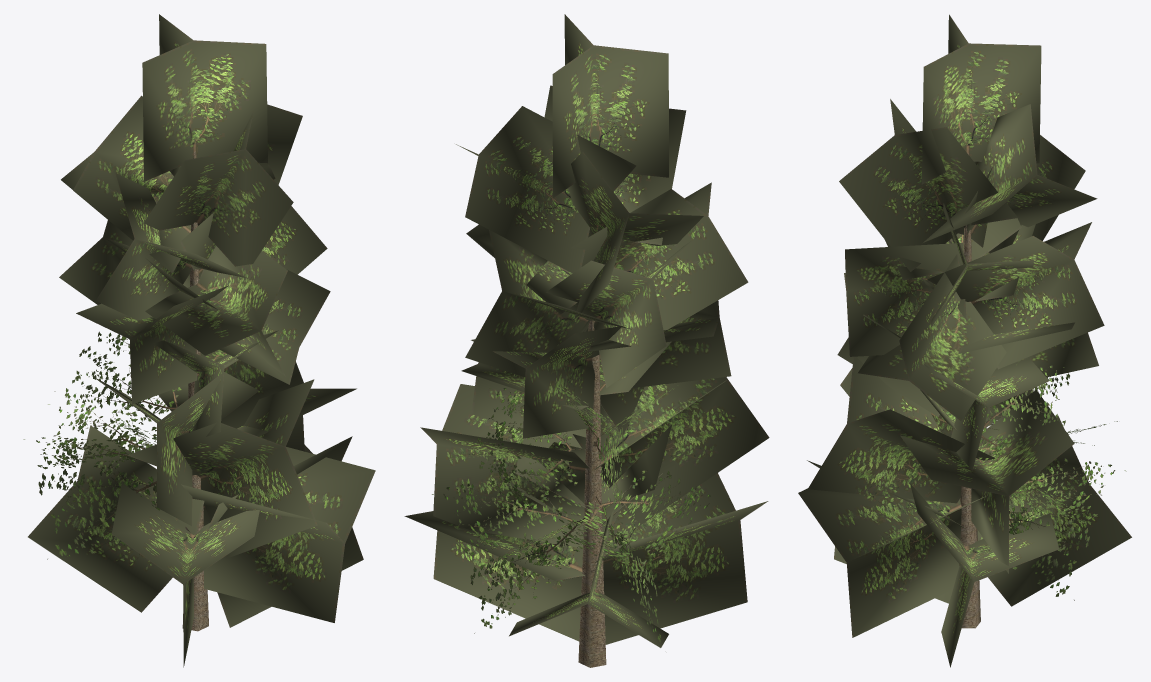
The model's file is decd_maple_sparse_a1_l0.fbx.
The picture shows the model from 3 angles, left to right: view 1: azimuth 30°, elevation 25°; view 2: azimuth 150°, elevation 25°; view 3: azimuth 270°, elevation 25°; orthographic projection. The views are drawn at different scales.
Visible parts, largest first — view 1: mesh_node; view 2: mesh_node; view 3: mesh_node.
Boxes of the visible parts, x1,y1,x2,y2 form: mesh_node: [23, 14, 375, 667]; mesh_node: [404, 14, 769, 667]; mesh_node: [798, 14, 1131, 667].
Size of the model in its own units: 7.59 by 13.65 by 7.22.
